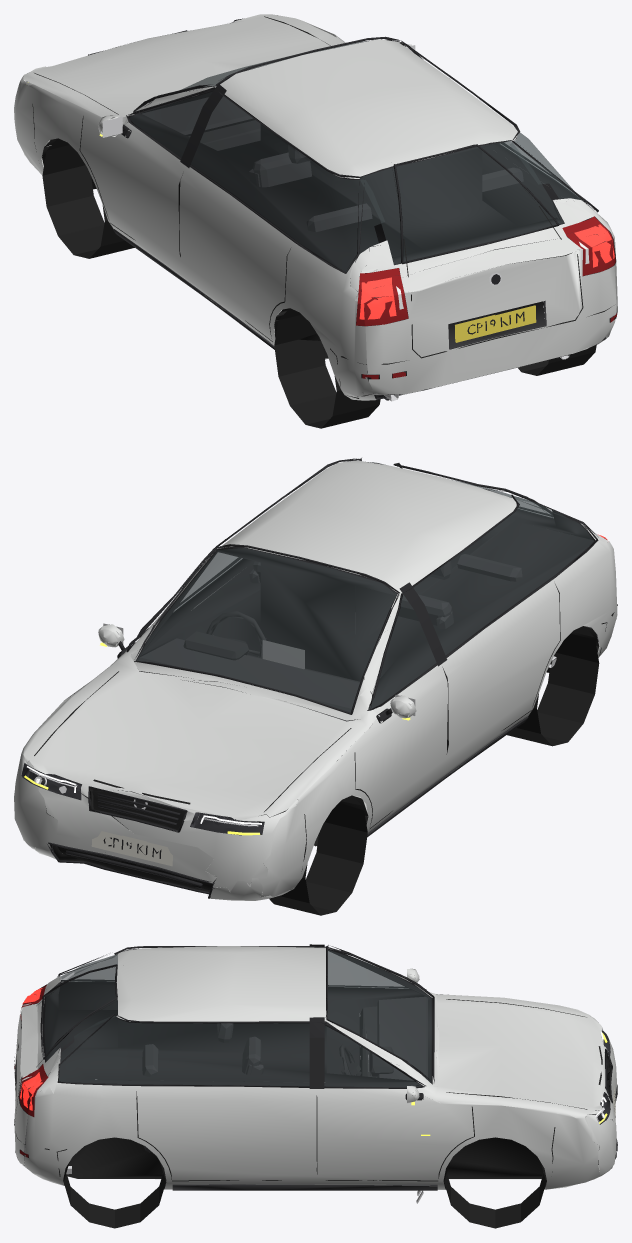
File: civ_compact_traffic.glb
The picture shows the model from 3 angles, top to bottom: view 1: azimuth 30°, elevation 25°; view 2: azimuth 150°, elevation 25°; view 3: azimuth 270°, elevation 25°; orthographic projection. The views are drawn at different scales.
Parts seen in each view (by area): view 1: civ_compact; view 2: civ_compact; view 3: civ_compact.
Part boxes in pixels (x1,y1,x2,y2): civ_compact: (14, 14, 617, 428); civ_compact: (14, 458, 617, 915); civ_compact: (14, 944, 617, 1228).
Bounding box in the file's own units: 2 × 1.5 × 4.05.
